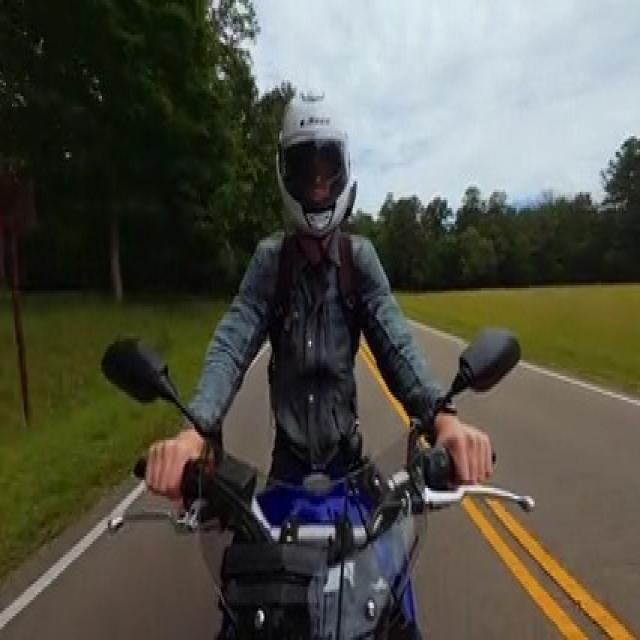Helmet_Wearer: (268, 74, 369, 223)
Person: (165, 72, 486, 479)
